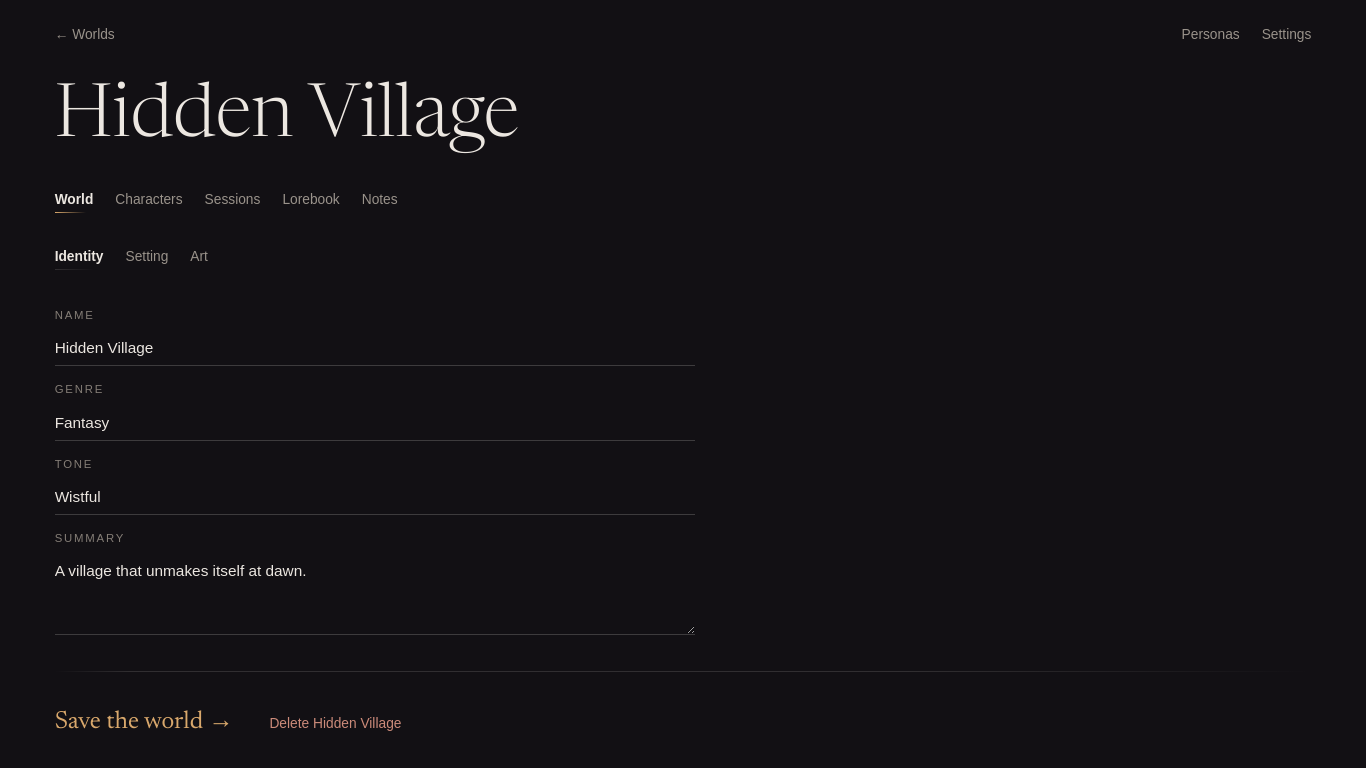
Test: world details › saves edits to the identity fields
Expected: the field labelled "Name" holds "Hidden Village", [55,330,695,366]
Replace the text in the field labelled "Genre" with "Folk horror" at {"x": 375, "y": 422}, box [55,404,695,440]
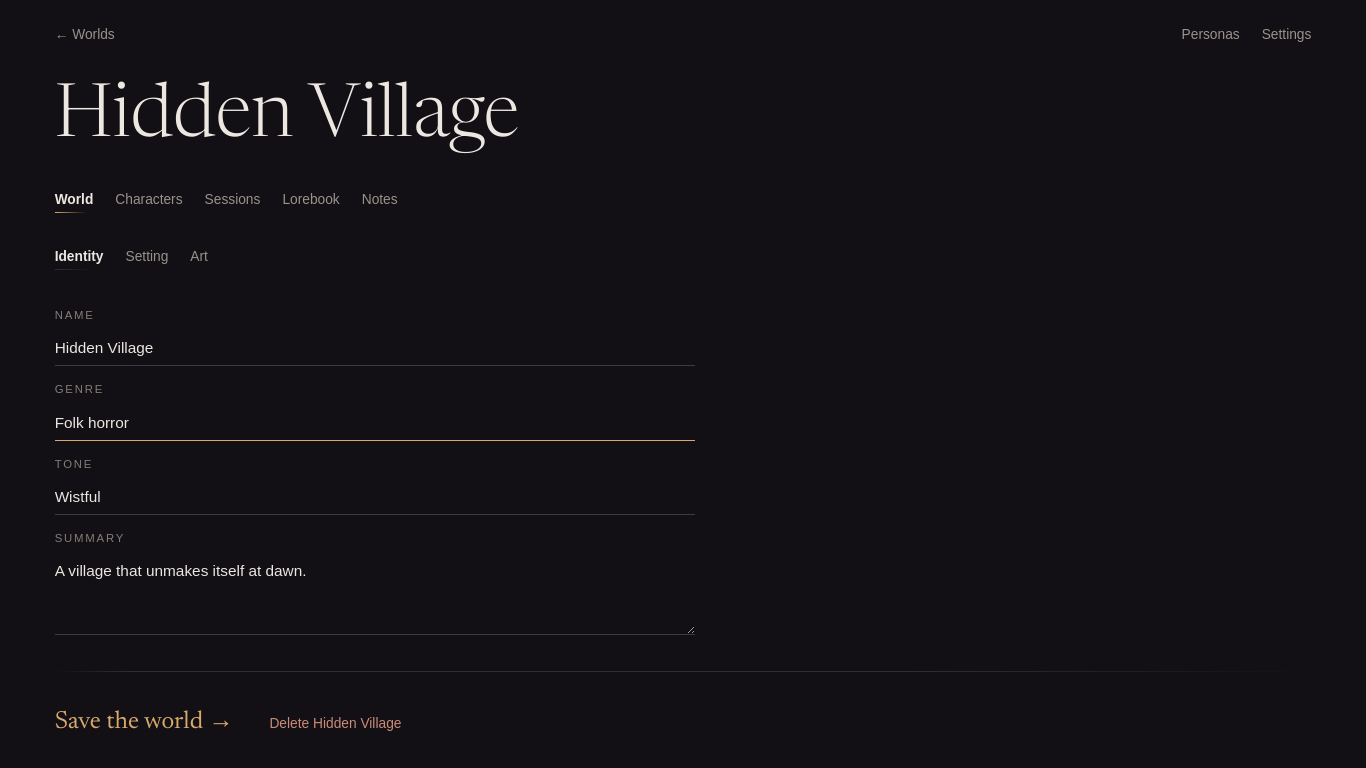
Click the button "Save the world →".
click(144, 724)  # box [55,708,233,739]
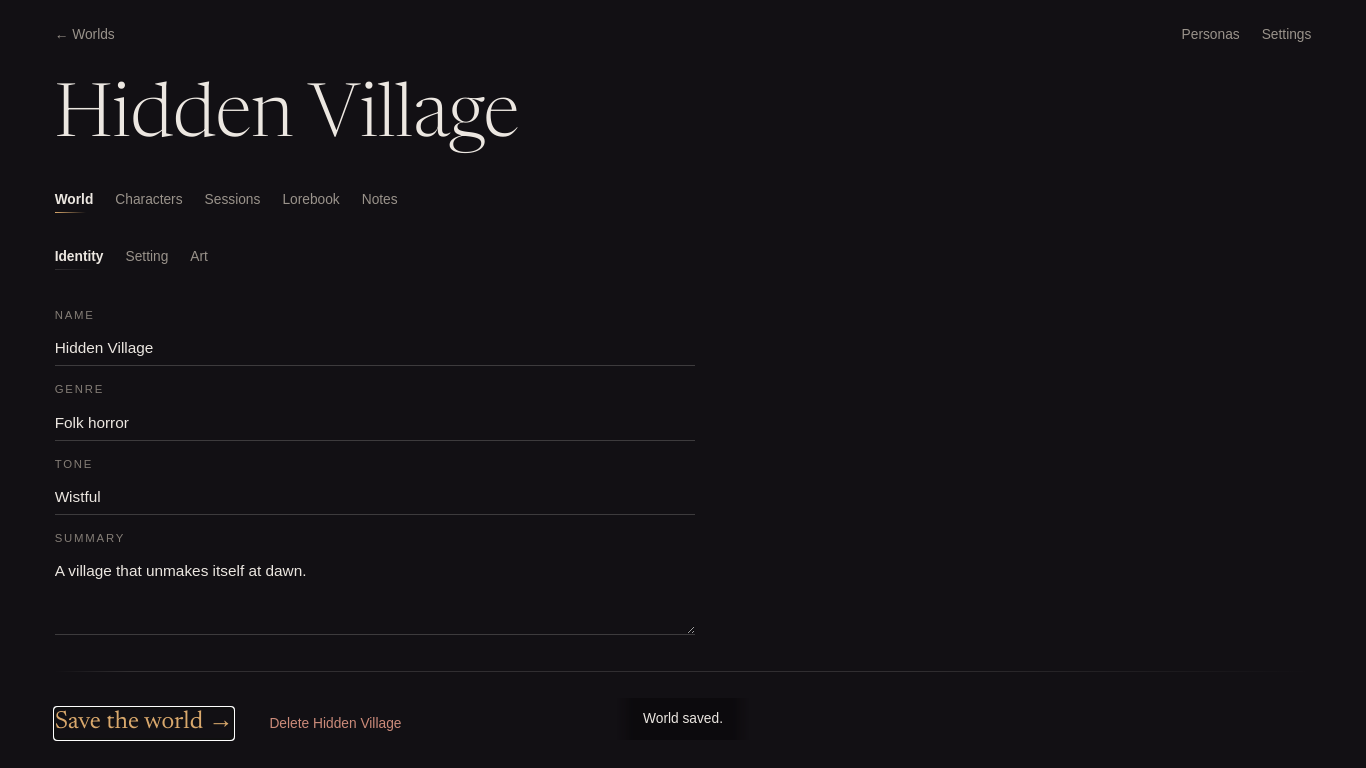
Expected: the text "World saved." is shown, [617,698,749,740]
